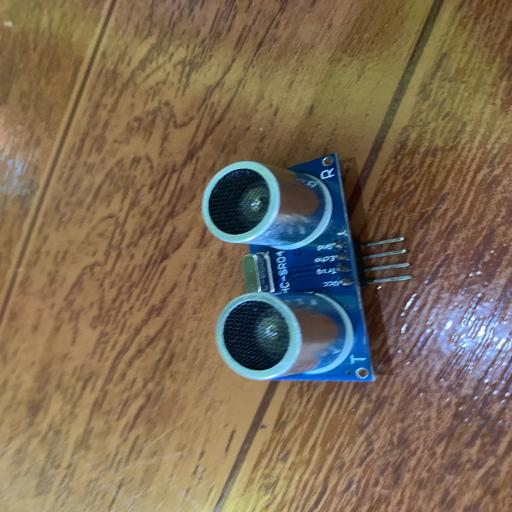Ultrasonic Sensor: (201, 152, 411, 382)
